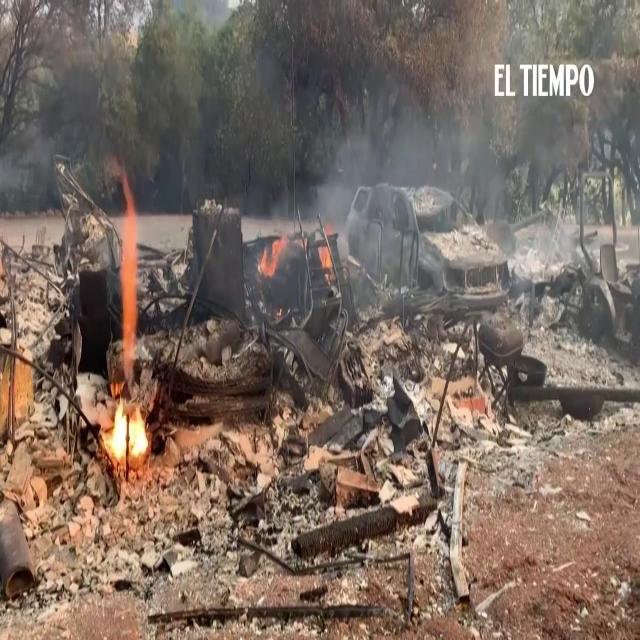Fire: (117, 173, 143, 371), (106, 408, 150, 461), (257, 236, 285, 278), (322, 222, 333, 263)
